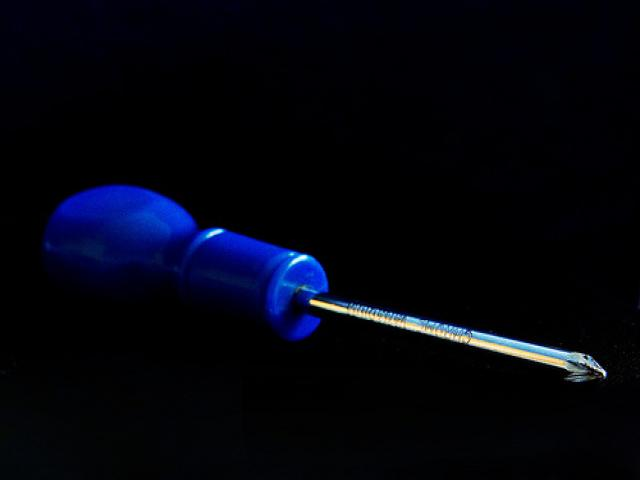Screwdriver: (42, 186, 606, 381)
